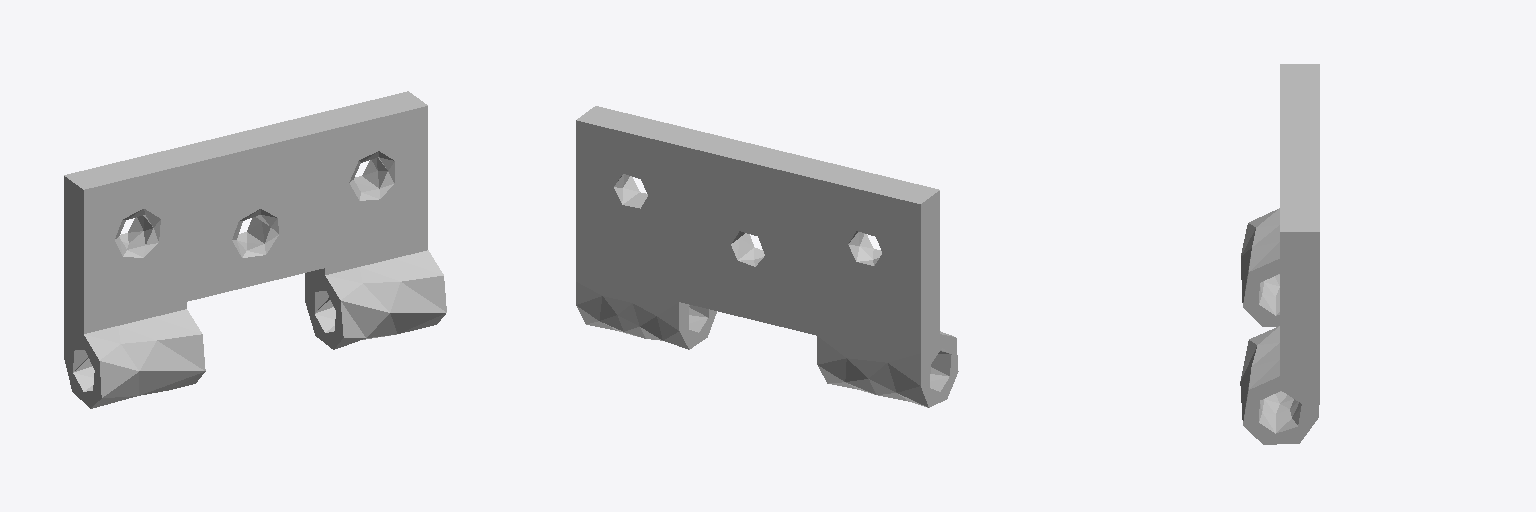
The model's file is hinge.obj.
The picture shows the model from 3 angles: view 1: azimuth 30°, elevation 25°; view 2: azimuth 150°, elevation 25°; view 3: azimuth 270°, elevation 25°; orthographic projection.
Bounding box in the file's own units: 50 × 29.98 × 9.98.